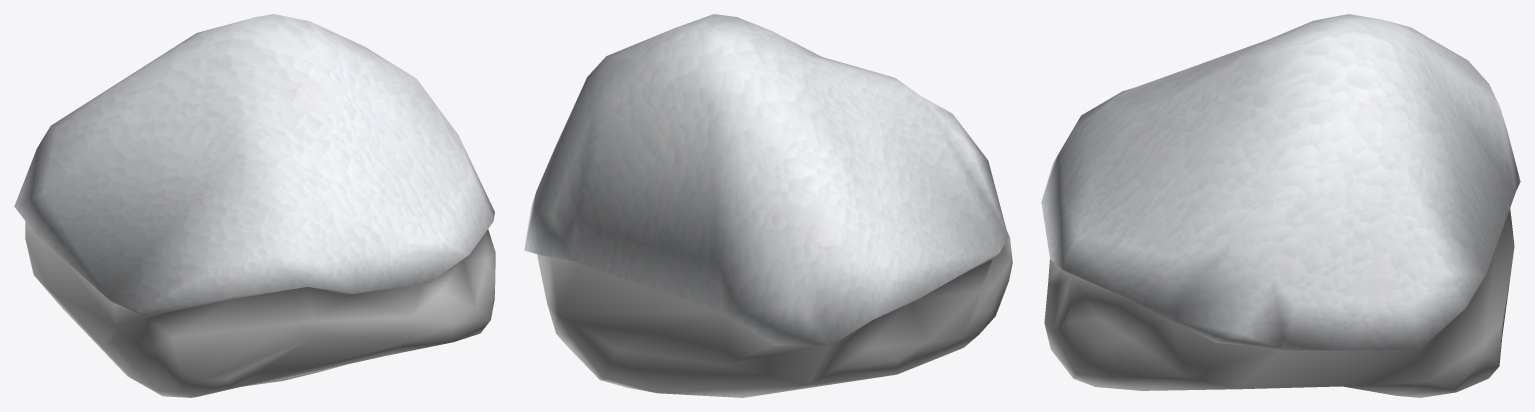
File: rock_s05b.fbx
3 views of the same model, side by side, from view 1: azimuth 30°, elevation 25°; view 2: azimuth 150°, elevation 25°; view 3: azimuth 270°, elevation 25° (orthographic). The views are drawn at different scales.
Visible parts, largest first — view 1: rock_s05b; view 2: rock_s05b; view 3: rock_s05b.
Boxes of the visible parts, box(x1,y1,x2,y2) form: rock_s05b: box(14, 14, 495, 397); rock_s05b: box(524, 14, 1012, 397); rock_s05b: box(1041, 14, 1520, 397).
Size of the model in its own units: 235 by 175 by 220.
